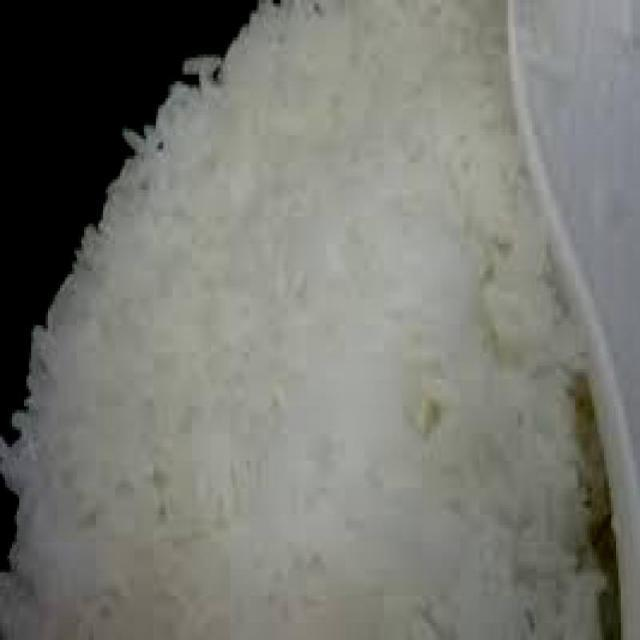Chicken -Chicken Inasal-: (0, 0, 608, 639)
